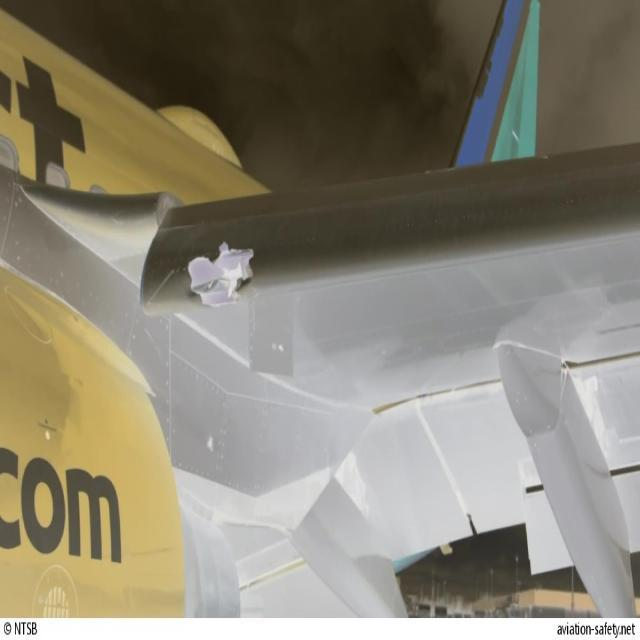crack: (184, 240, 255, 317)
